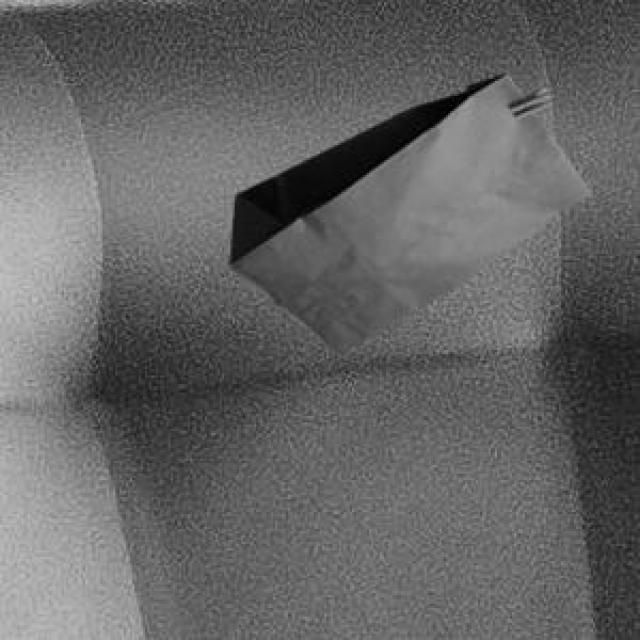paper: (226, 70, 587, 350)
